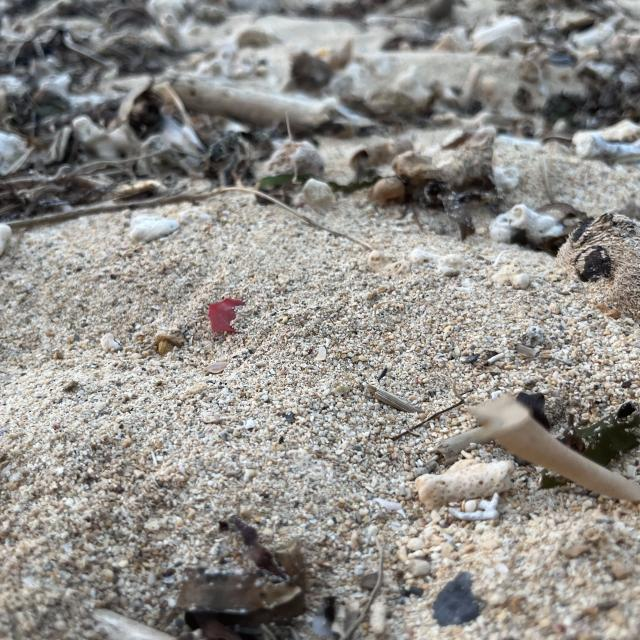seaweed: (0, 0, 255, 200)
stick: (149, 71, 346, 136)
trash: (198, 285, 249, 344)
